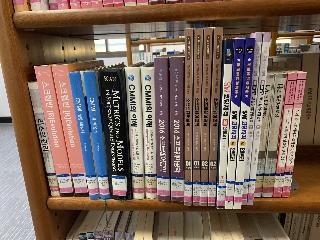book-spine: (34, 64, 74, 199), (51, 63, 89, 199), (99, 67, 132, 201), (246, 31, 271, 205), (231, 37, 255, 209), (68, 71, 99, 201), (240, 32, 263, 205), (223, 38, 245, 209), (28, 81, 59, 198), (84, 71, 111, 200), (281, 71, 307, 197), (261, 73, 287, 198), (272, 72, 297, 198), (217, 39, 234, 209), (207, 27, 223, 206), (253, 74, 275, 198), (126, 67, 145, 200), (199, 27, 213, 206), (169, 57, 184, 202), (154, 57, 169, 201), (141, 67, 157, 199), (192, 28, 203, 206), (183, 28, 193, 205)
